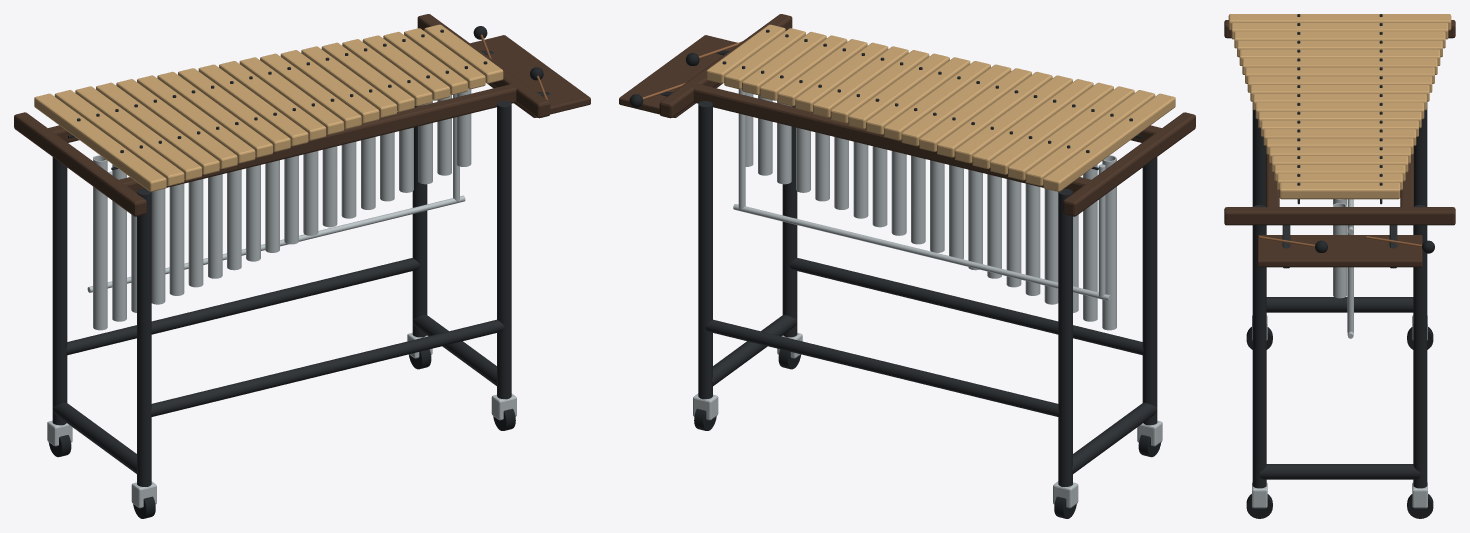
Rendered from city-framed-xylophone.glb.
3 renders of one model, left to right at view 1: azimuth 30°, elevation 25°; view 2: azimuth 150°, elevation 25°; view 3: azimuth 270°, elevation 25°, orthographic. The views are drawn at different scales.
Visible parts, largest first — view 1: Assembly | Pale untextured soundboard wood, Assembly | Satin plated fittings, Assembly | Black instrument finish, Assembly | Dark wooden bridge and board, Assembly | Dark rubber pads; view 2: Assembly | Pale untextured soundboard wood, Assembly | Satin plated fittings, Assembly | Black instrument finish, Assembly | Dark wooden bridge and board, Assembly | Dark rubber pads; view 3: Assembly | Pale untextured soundboard wood, Assembly | Black instrument finish, Assembly | Dark wooden bridge and board, Assembly | Satin plated fittings, Assembly | Dark rubber pads, Assembly | Warm plain wooden case.
Boxes of the visible parts, x1,y1,x2,y2 form: Assembly | Pale untextured soundboard wood: (34, 24, 503, 191); Assembly | Satin plated fittings: (47, 88, 516, 508); Assembly | Black instrument finish: (52, 29, 550, 486); Assembly | Dark wooden bridge and board: (14, 14, 590, 216); Assembly | Dark rubber pads: (48, 26, 543, 518); Assembly | Pale untextured soundboard wood: (706, 24, 1175, 191); Assembly | Satin plated fittings: (693, 88, 1162, 508); Assembly | Black instrument finish: (660, 29, 1157, 486); Assembly | Dark wooden bridge and board: (619, 14, 1195, 216); Assembly | Dark rubber pads: (629, 53, 1161, 518); Assembly | Pale untextured soundboard wood: (1228, 14, 1451, 199); Assembly | Black instrument finish: (1252, 14, 1427, 488); Assembly | Dark wooden bridge and board: (1224, 20, 1455, 267); Assembly | Satin plated fittings: (1252, 199, 1427, 508); Assembly | Dark rubber pads: (1246, 199, 1434, 518); Assembly | Warm plain wooden case: (1259, 236, 1422, 247).
Size of the model in its own units: 1.26 by 0.8965 by 0.562.
